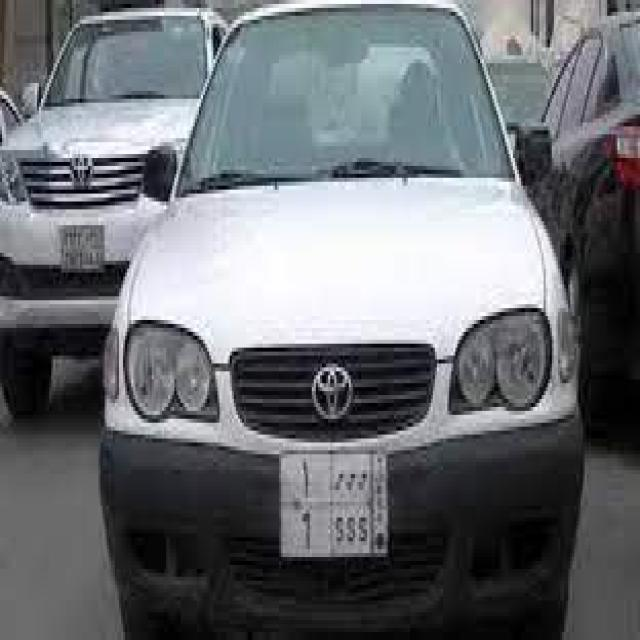license_plate: (279, 446, 392, 565)
